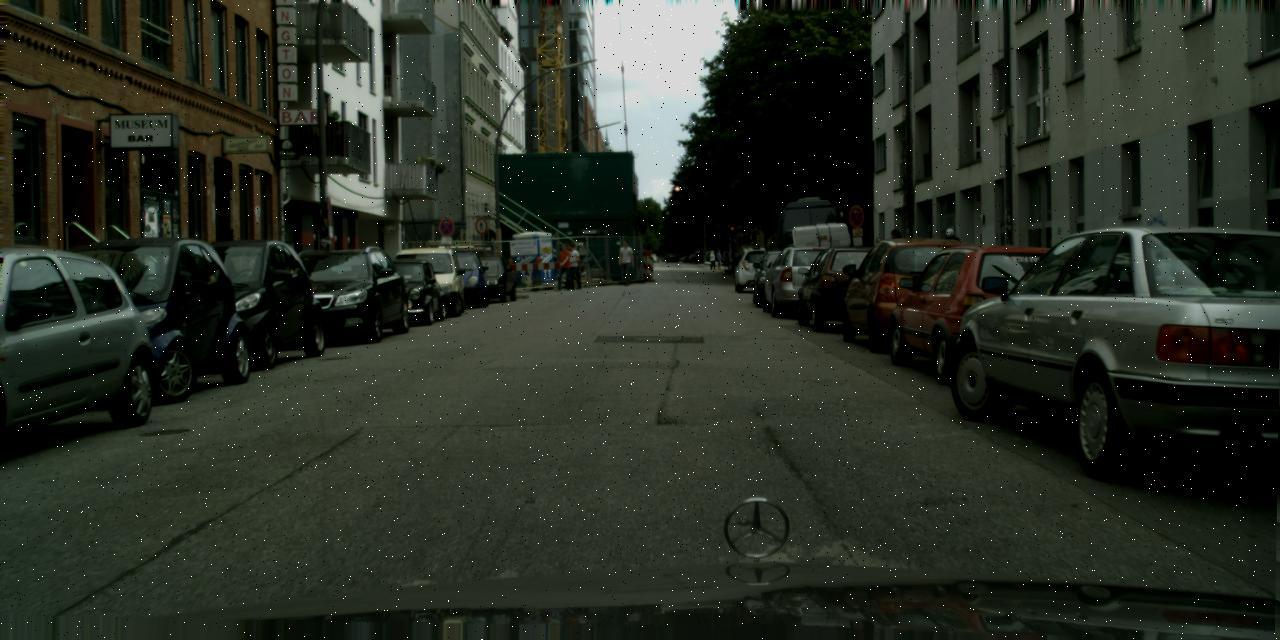ped: (940, 228, 962, 285), (886, 228, 908, 284), (616, 240, 634, 286), (554, 243, 572, 289), (564, 244, 582, 288), (714, 249, 722, 269), (708, 250, 716, 270)
